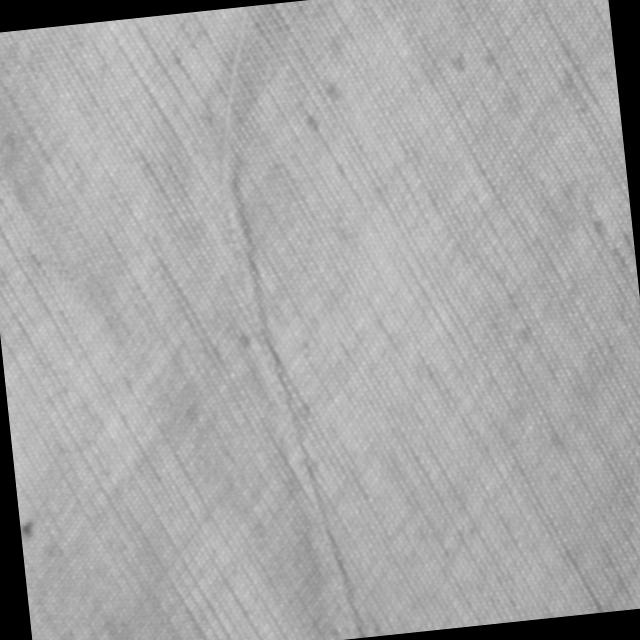objects: (199, 0, 369, 640)
